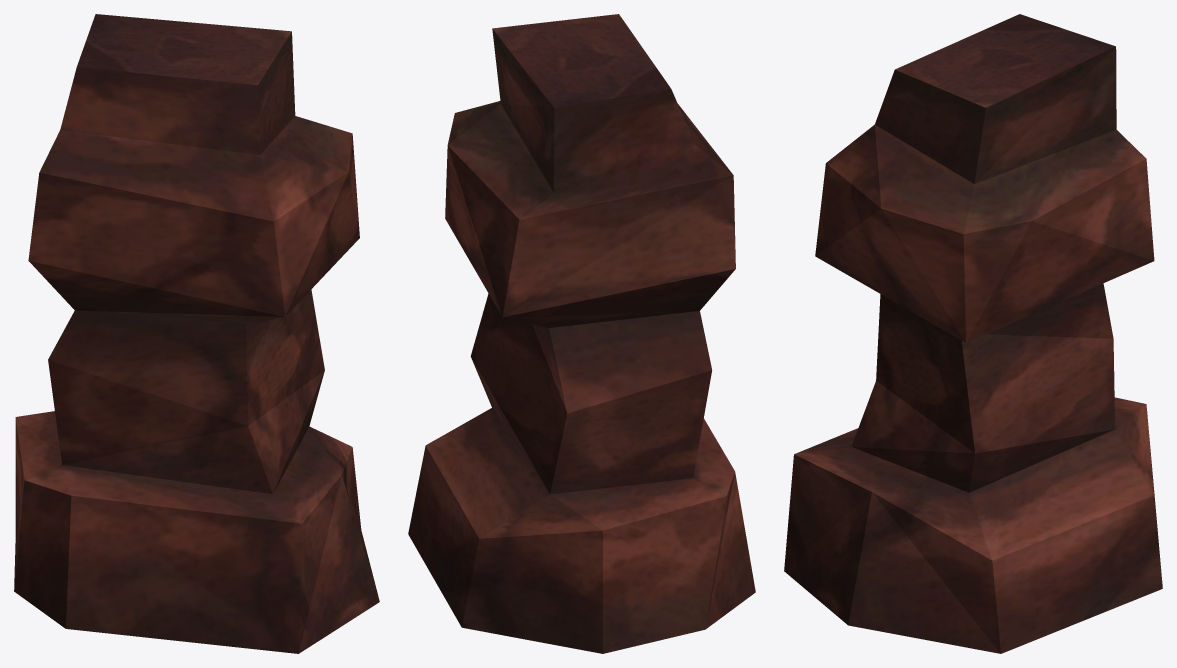
File: lava_half_convex_05.fbx
The picture shows the model from 3 angles, left to right: view 1: azimuth 30°, elevation 25°; view 2: azimuth 150°, elevation 25°; view 3: azimuth 270°, elevation 25°; orthographic projection. The views are drawn at different scales.
Parts seen in each view (by area): view 1: obj0.100; view 2: obj0.100; view 3: obj0.100.
Part boxes in pixels (x1,y1,x2,y2): obj0.100: [14, 14, 379, 653]; obj0.100: [408, 14, 755, 653]; obj0.100: [784, 14, 1162, 653].
Size of the model in its own units: 1.81 by 2.73 by 1.84.
